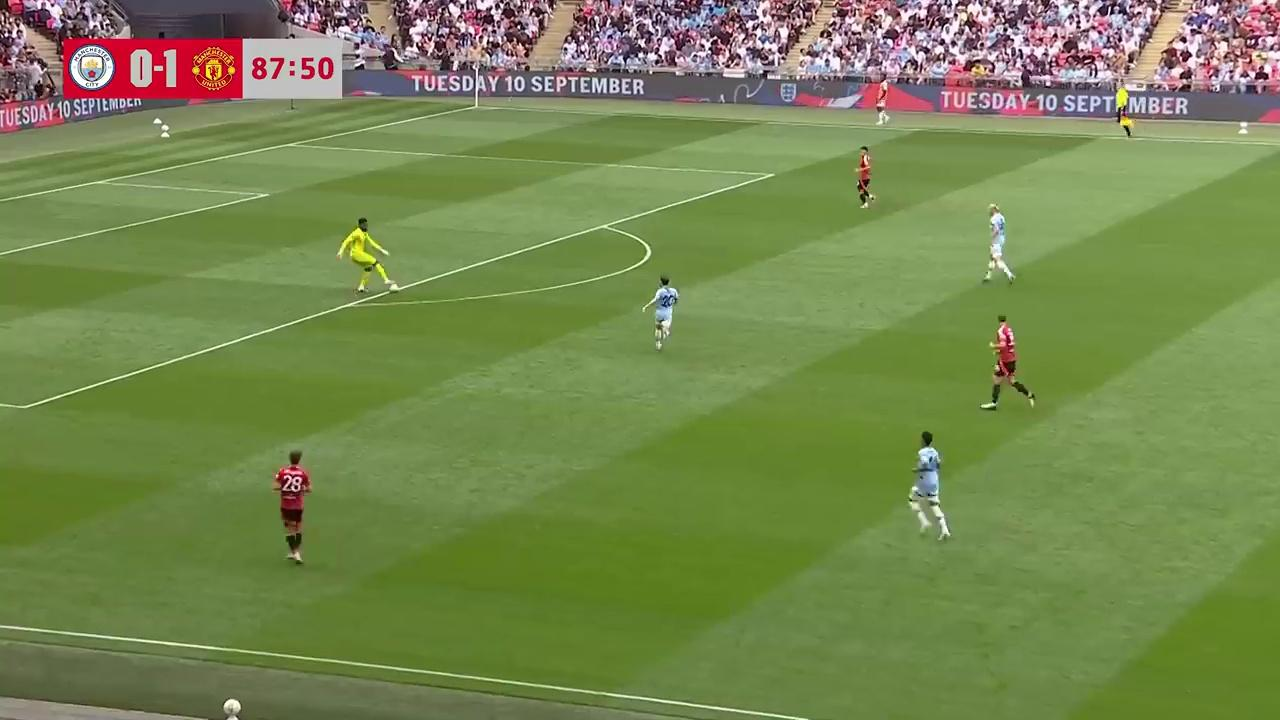ball: (387, 278, 399, 296)
player: (982, 315, 1035, 411), (908, 431, 952, 542), (271, 450, 312, 565), (336, 216, 394, 295), (980, 204, 1015, 285), (642, 276, 679, 350), (854, 146, 875, 208)
referee: (1111, 85, 1133, 140)
